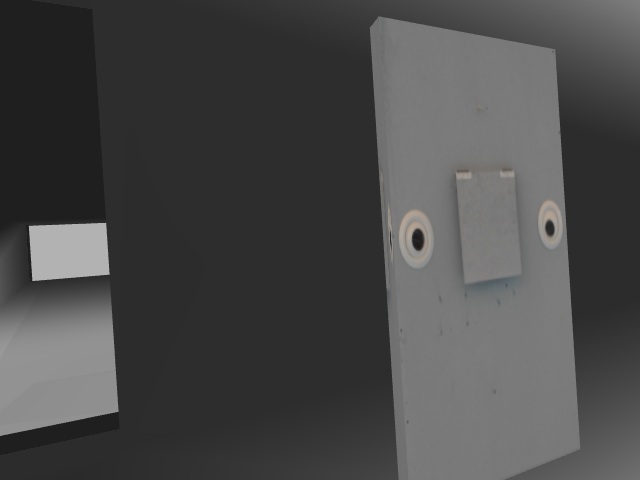facade: (395, 165, 565, 290)
